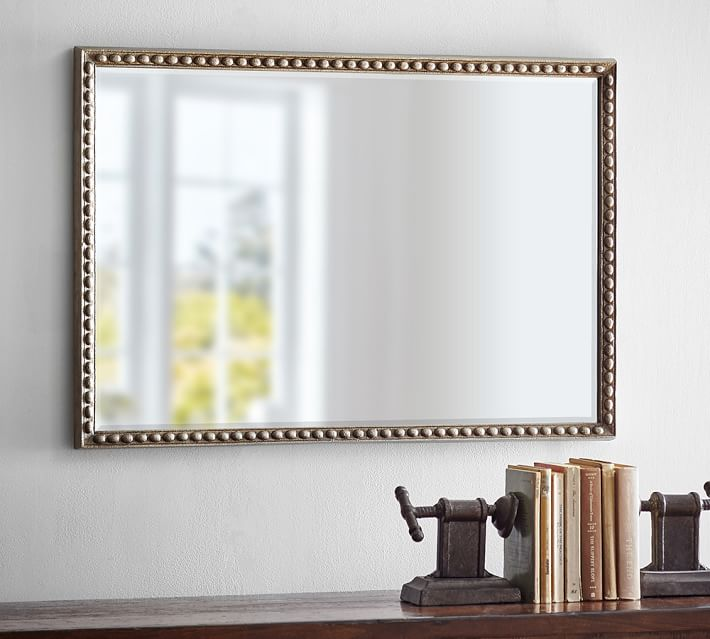Nonrec_Glass: (32, 25, 640, 446)
